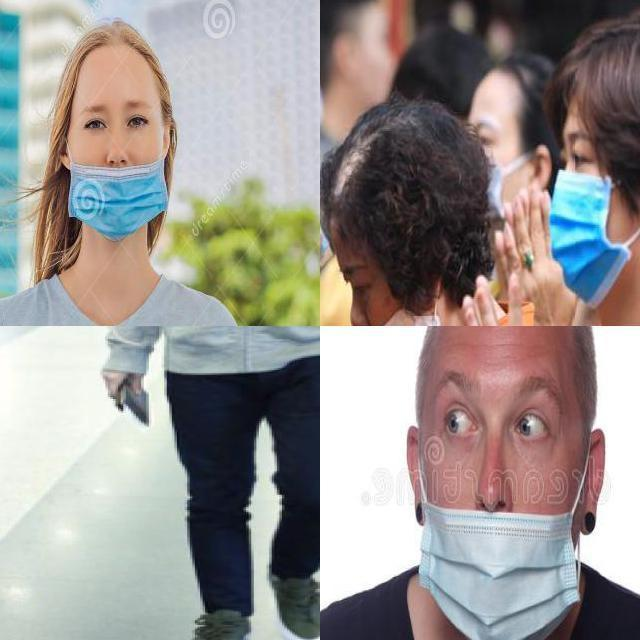hairnet: (426, 358, 564, 604), (64, 95, 172, 242), (342, 261, 439, 325)
no_gloves: (321, 94, 496, 303), (540, 2, 640, 177), (54, 15, 174, 124)
